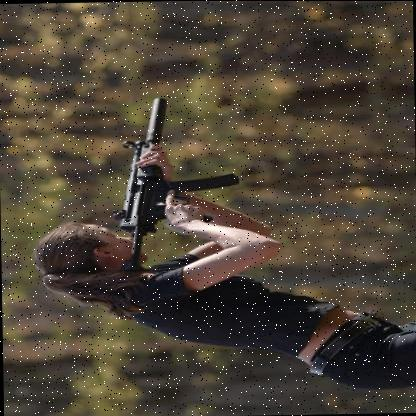rifle: (93, 99, 248, 278)
